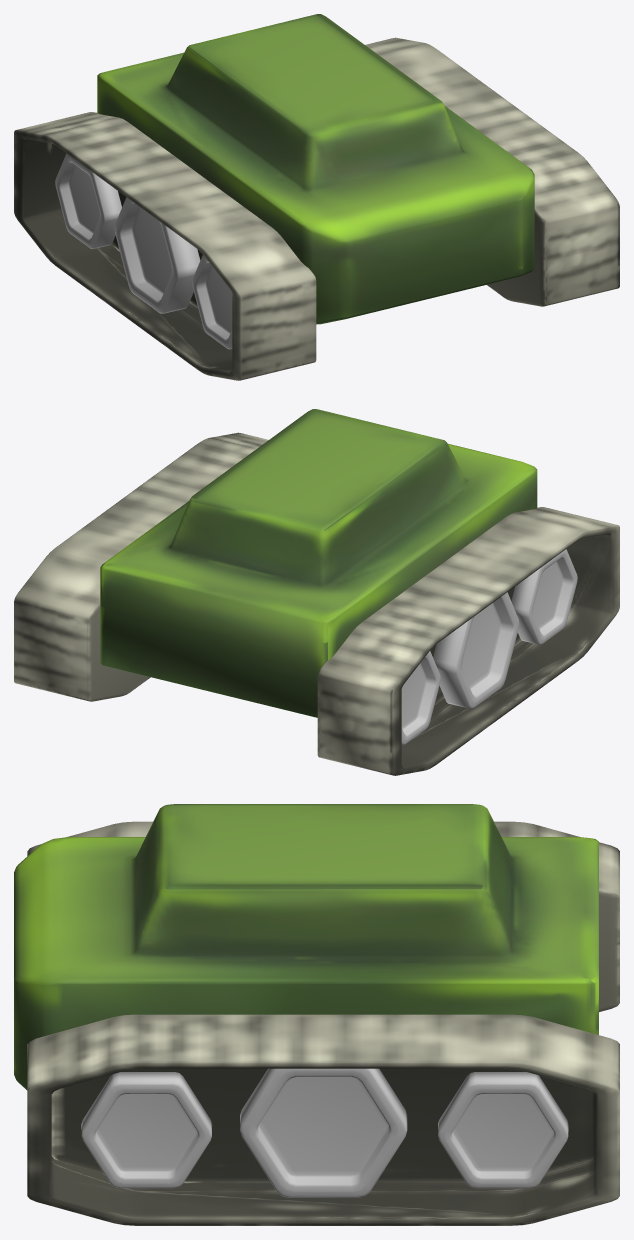
The model's file is TankBody.fbx.
3 renders of one model, top to bottom at view 1: azimuth 30°, elevation 25°; view 2: azimuth 150°, elevation 25°; view 3: azimuth 270°, elevation 25°, orthographic. The views are drawn at different scales.
Parts seen in each view (by area): view 1: TankBody; view 2: TankBody; view 3: TankBody.
Part boxes in pixels (x1,y1,x2,y2): TankBody: (14, 14, 619, 380); TankBody: (14, 409, 619, 775); TankBody: (14, 804, 619, 1225).
Size of the model in its own units: 331 by 165 by 349.
